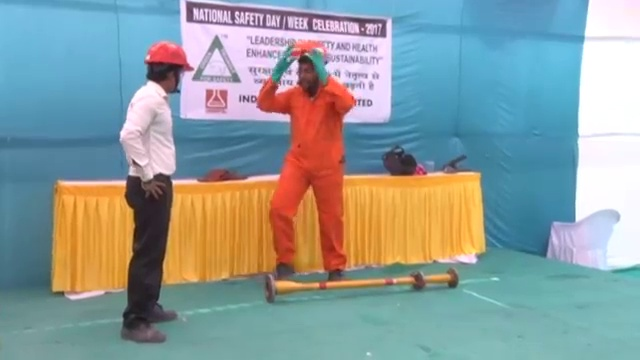helmet: (143, 40, 195, 72), (293, 40, 328, 65)
helmet_on: (140, 38, 195, 96), (291, 38, 327, 94)
person: (118, 39, 195, 345), (258, 37, 354, 282)
